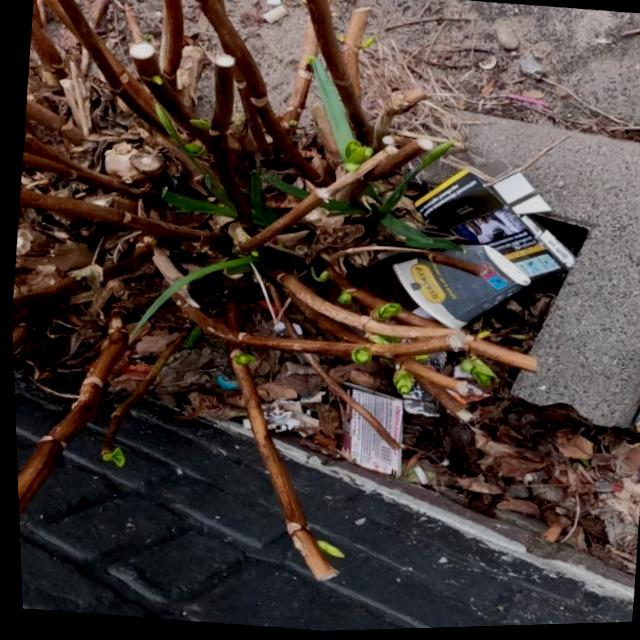Cup: (379, 245, 528, 352)
